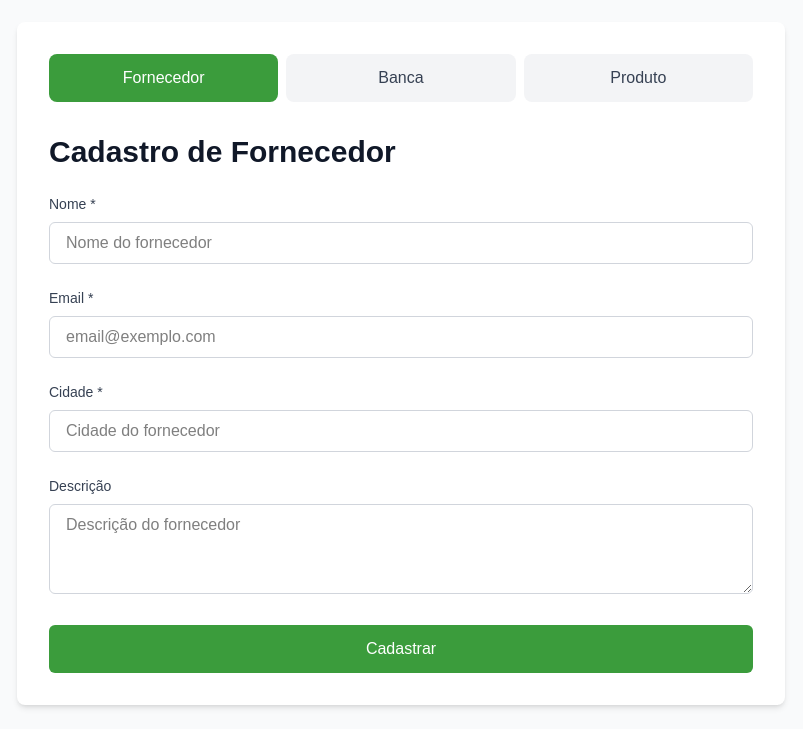
it: FormCadastro - Testes Completos › EU010 - Cadastro de Banca › deve validar campos obrigatórios da banca
The image size is (803, 729).
Click the button "Banca" at (401, 78), box [286,54,516,102]
(page scrolled)
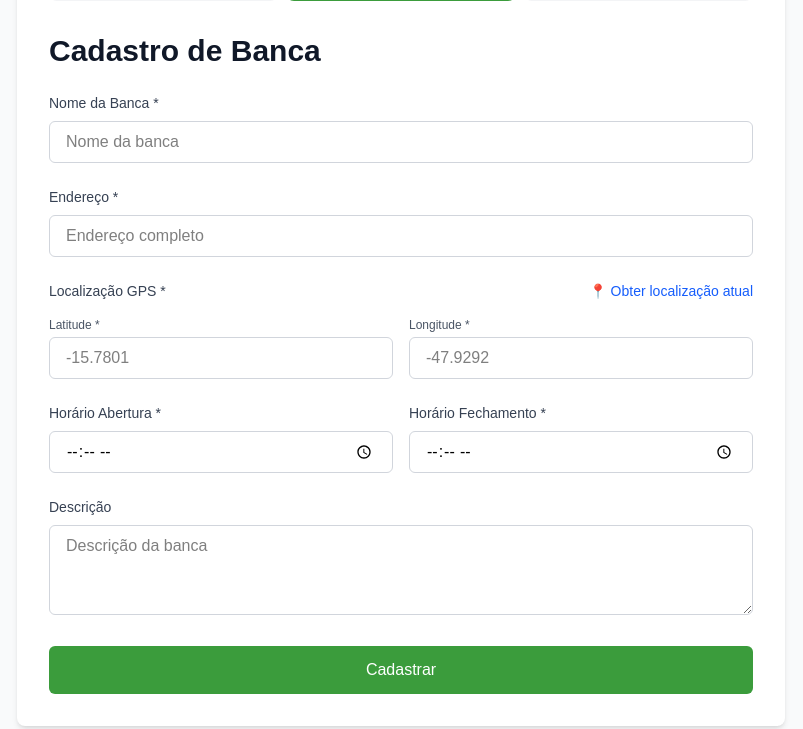
Click the button "Cadastrar" at (401, 670), box [49,646,753,694]
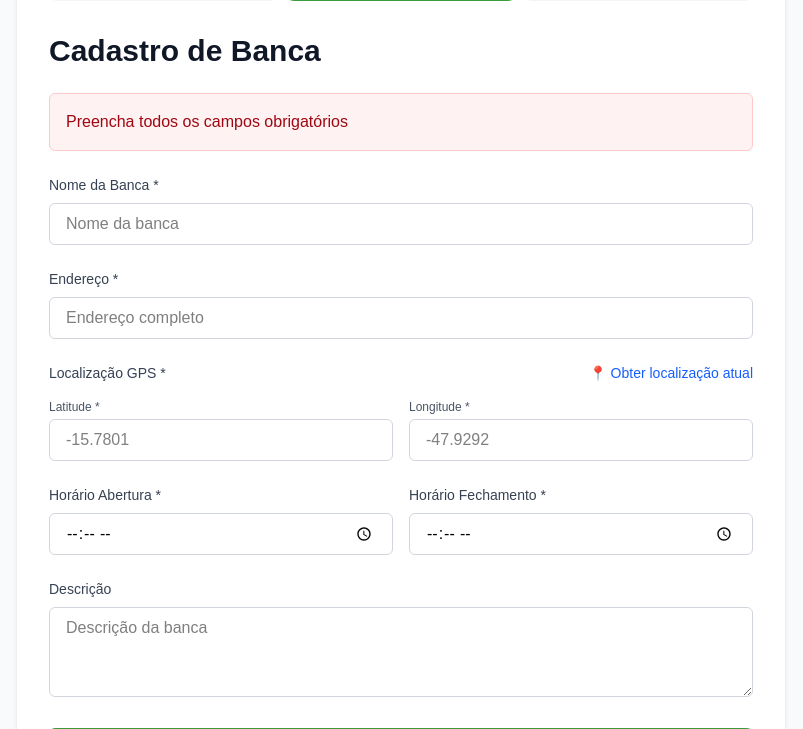
Now the text "Preencha todos os campos obrigatórios" is shown, box [49,93,753,151]
